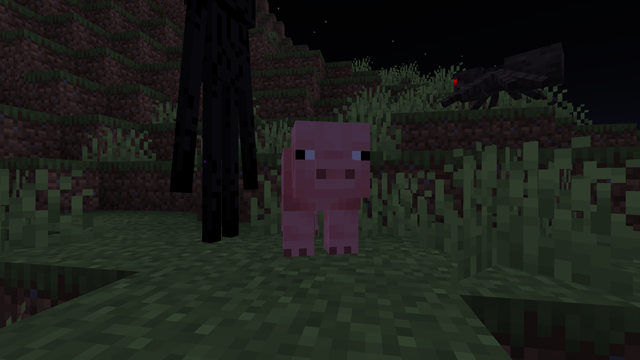araignees: (446, 39, 565, 110)
cochons: (251, 144, 360, 258)
endermens: (175, 11, 258, 246)
